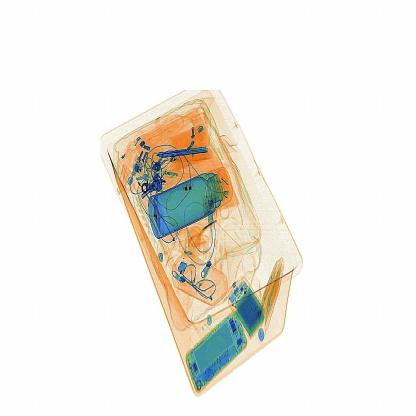pliers: (150, 137, 226, 165)
